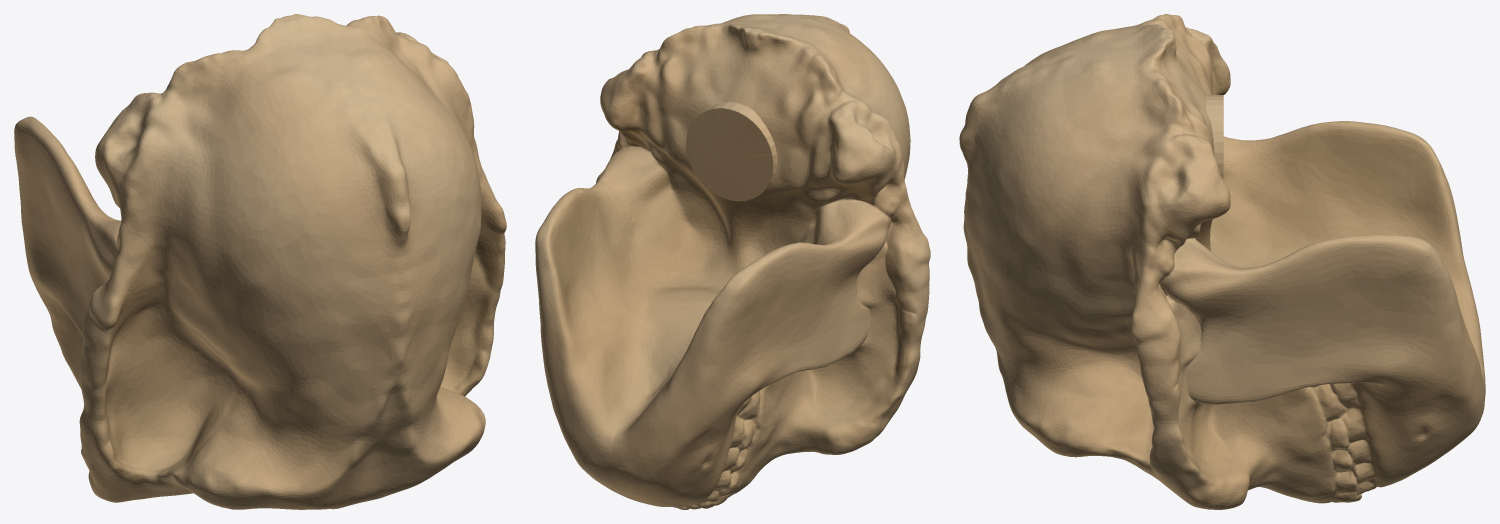
Rendered from boisei.glb.
3 views of the same model, side by side, from view 1: azimuth 30°, elevation 25°; view 2: azimuth 150°, elevation 25°; view 3: azimuth 270°, elevation 25° (orthographic). The views are drawn at different scales.
Size of the model in its own units: 38 by 45.13 by 47.27.
